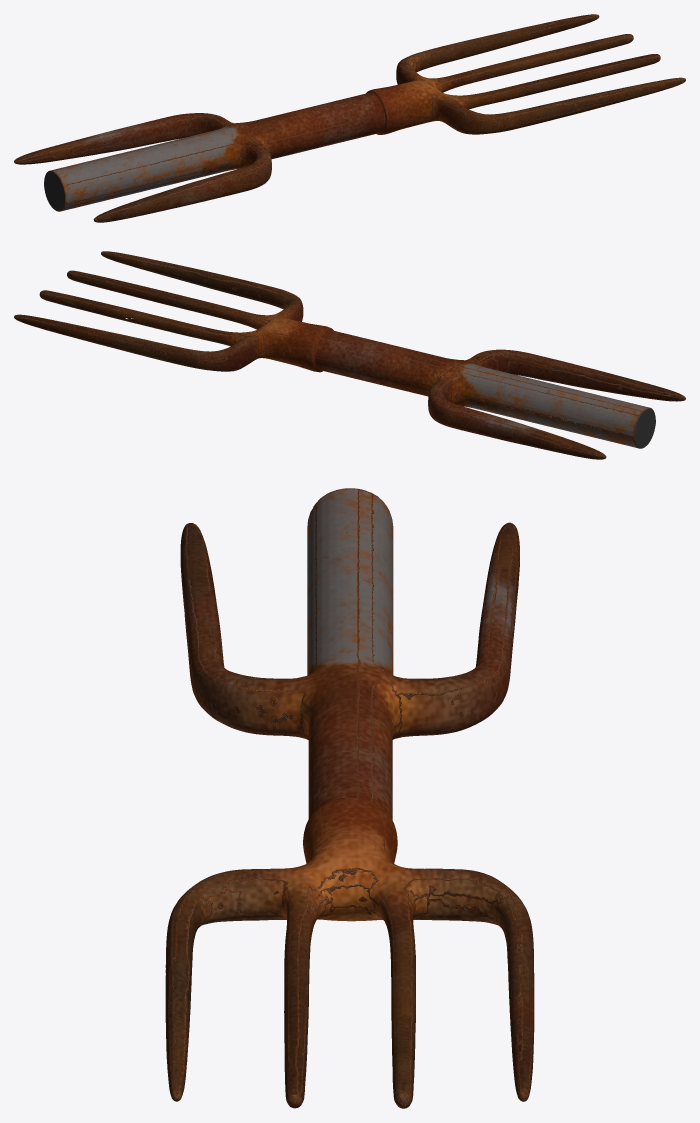
3 renders of one model, top to bottom at view 1: azimuth 30°, elevation 25°; view 2: azimuth 150°, elevation 25°; view 3: azimuth 270°, elevation 25°, orthographic. The views are drawn at different scales.
Size of the model in its own units: 1.95 by 0.1304 by 0.5249.
Materials: 1 (1 with a texture image).
